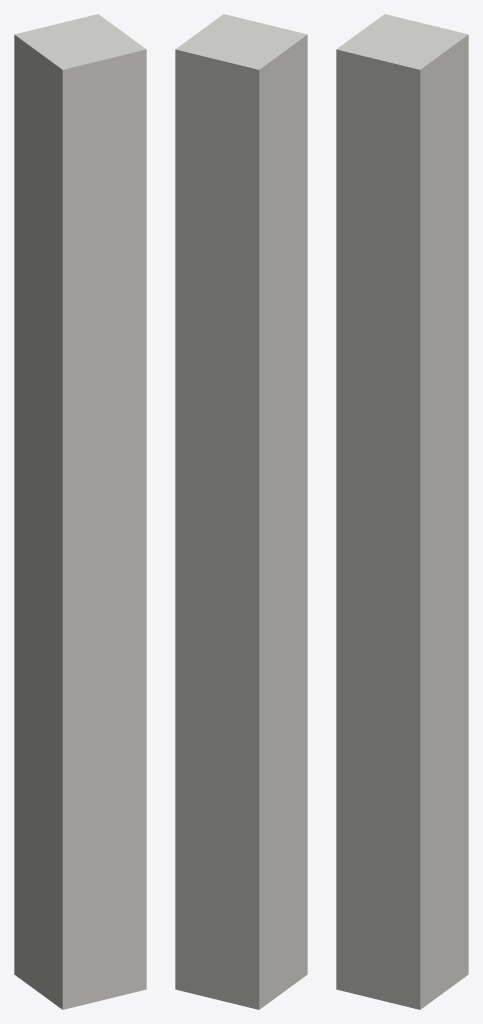
The model's file is Pillar_3B.fbx.
The picture shows the model from 3 angles, left to right: view 1: azimuth 30°, elevation 25°; view 2: azimuth 150°, elevation 25°; view 3: azimuth 330°, elevation 25°; orthographic projection.
Parts seen in each view (by area): view 1: pCube93; view 2: pCube93; view 3: pCube93.
Part boxes in pixels (x1,y1,x2,y2): pCube93: [14, 14, 146, 1009]; pCube93: [175, 14, 307, 1009]; pCube93: [336, 14, 468, 1009].
Size of the model in its own units: 0.75 by 8.03 by 0.75.
Materials: 1 (1 with a texture image).
